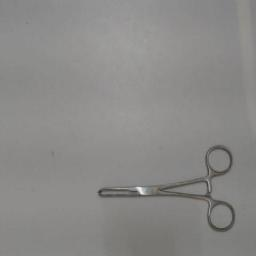Allis Tissue Forceps: (93, 138, 237, 238)
